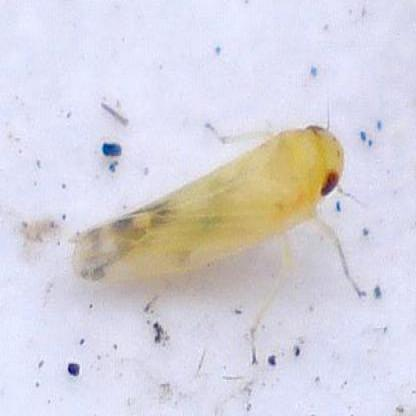green-leafhopper: (72, 124, 366, 362)
